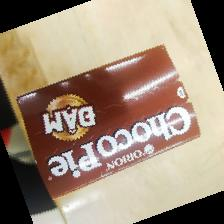Chocopie_cacao: (16, 43, 201, 201)
